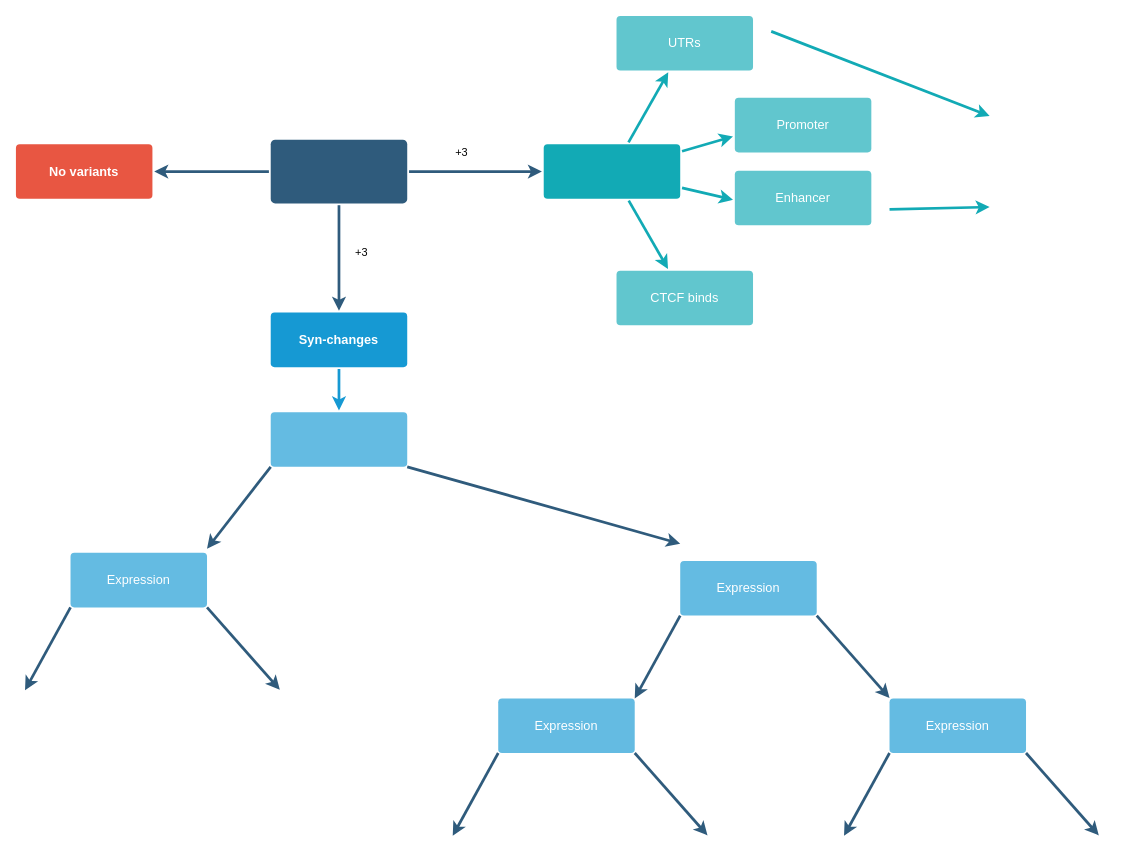
This 1123x860 diagram has some shape labels left out. Here are the shapes that lost their labels. From the top down, the box of each, then its label:
(270, 139, 407, 203): Genes in regions
(543, 144, 680, 198): Regulatory regions variants
(270, 412, 407, 466): Domains
